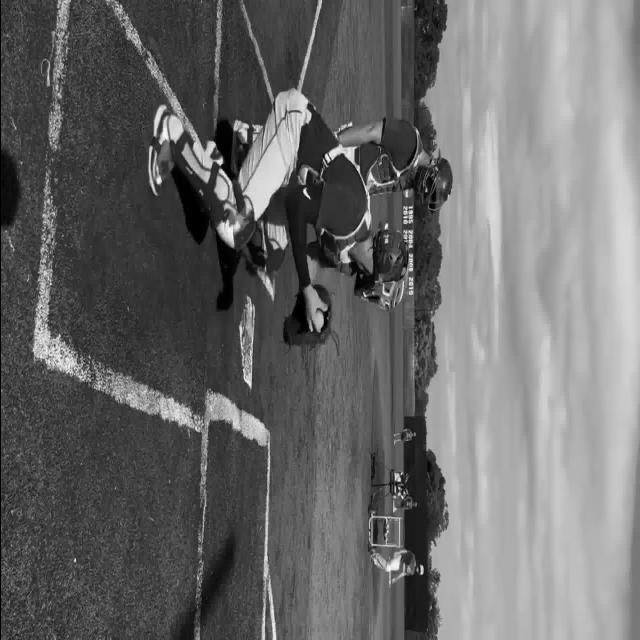base: (233, 301, 255, 391)
baseball: (316, 310, 324, 330)
baseball_glove: (282, 283, 332, 348)
shoe: (214, 182, 256, 250), (147, 104, 176, 196)
